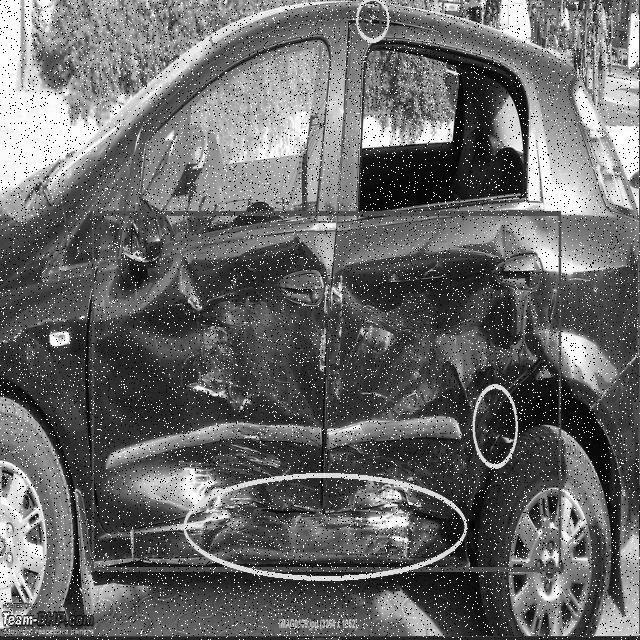Runningboard-Damage: (86, 510, 290, 579), (285, 504, 471, 573)
doorouter-dent: (335, 212, 582, 518), (89, 219, 330, 510)
